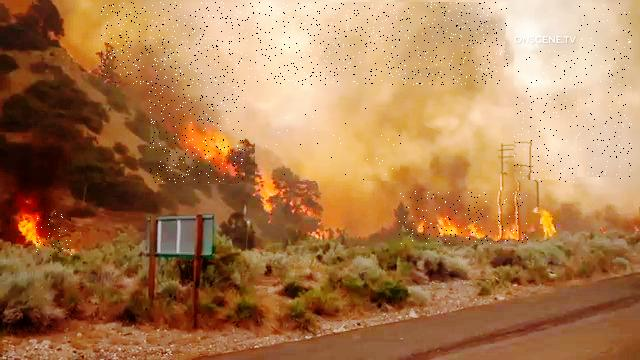fire: (149, 70, 245, 184), (399, 191, 530, 244), (37, 212, 74, 257)
smoke: (101, 2, 509, 85), (256, 103, 406, 181), (579, 4, 632, 180), (515, 52, 580, 183)
